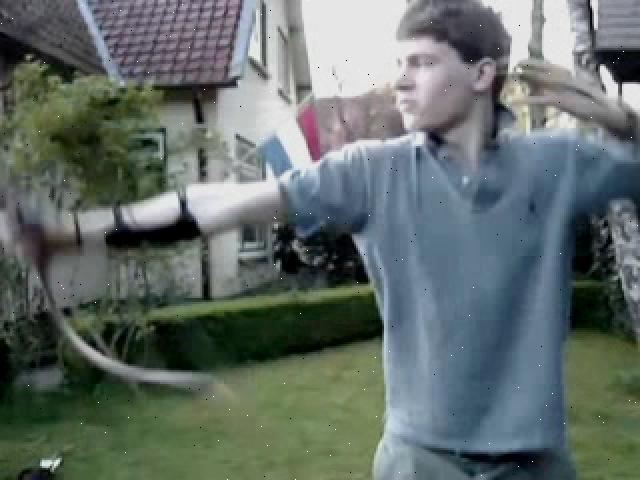P: (0, 8, 635, 476)
